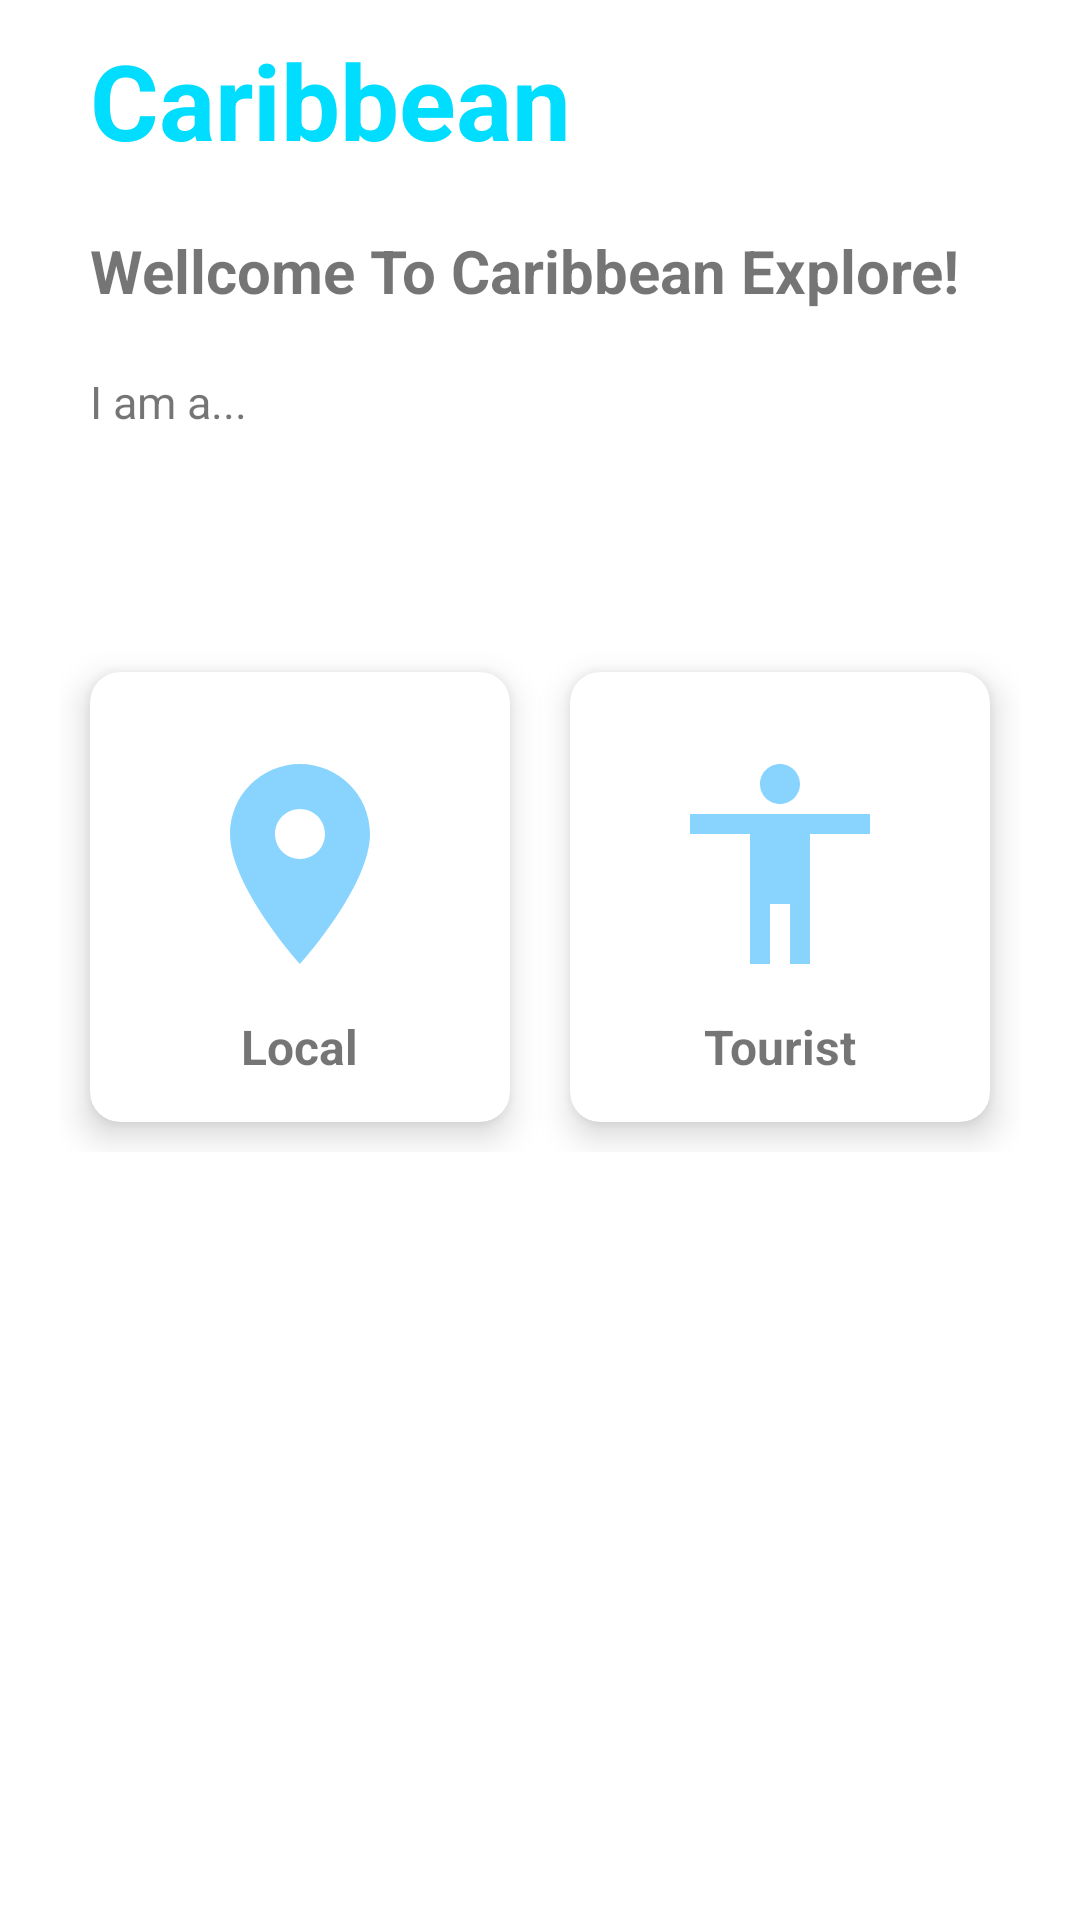

Named icons in this screenshot (1080x1920) and their bounding boxes, (x1, y1, x2, y2):
accessibility: (690, 764, 870, 964)
location on: (230, 764, 370, 964)
